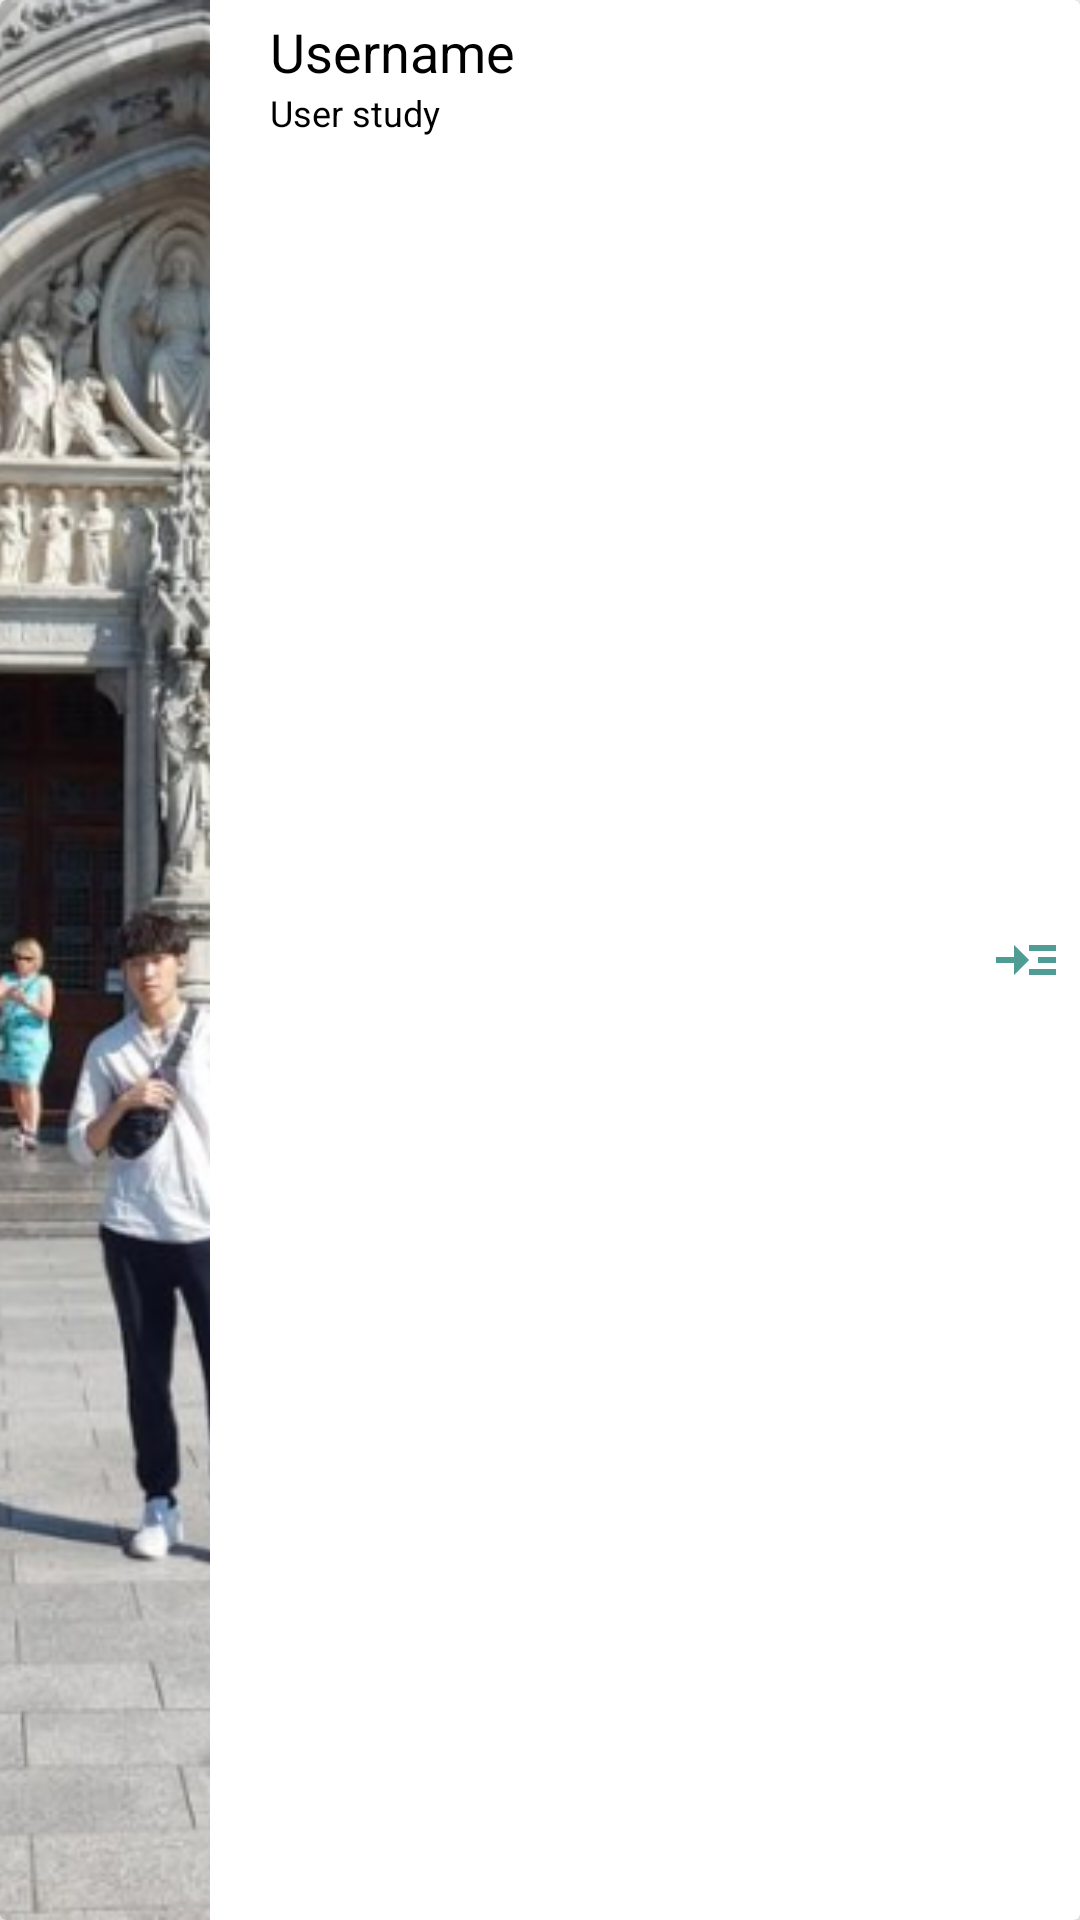

Icons on this 1080×1920 Android screen, each with its box as (x1, y1, x2, y2):
read more: (996, 945, 1056, 975)
